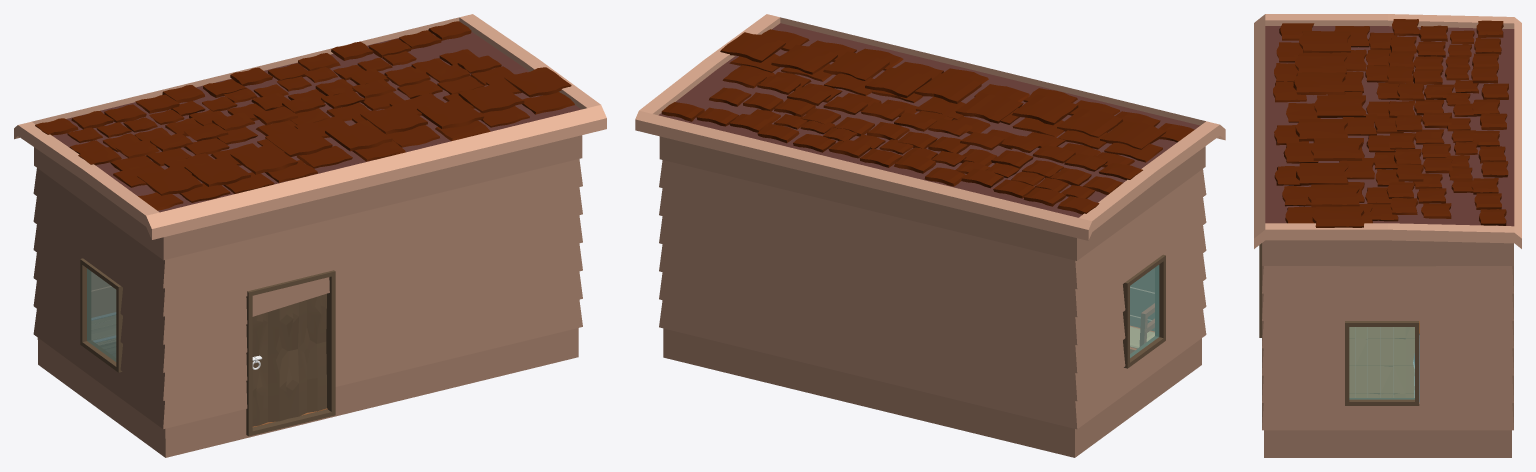
File: Kamara.fbx
The picture shows the model from 3 angles, left to right: view 1: azimuth 30°, elevation 25°; view 2: azimuth 150°, elevation 25°; view 3: azimuth 270°, elevation 25°; orthographic projection. The views are drawn at different scales.
Parts seen in each view (by area): view 1: Cube.017, Cube.019, Cube.018, Cube.021, Plane, Cube.020, Box; view 2: Cube.017, Cube.019, Cube.018, Plane, Cube.048; view 3: Cube.017, Cube.019, Cube.018, Plane, Cube.049, Cube.020.
Part boxes in pixels (<box>): Cube.017: <box>33,135,582,457</box>; Cube.019: <box>35,21,574,210</box>; Cube.018: <box>14,14,606,239</box>; Cube.021: <box>252,293,326,426</box>; Plane: <box>80,258,122,372</box>; Cube.020: <box>246,270,335,436</box>; Box: <box>91,312,116,357</box>; Cube.017: <box>659,136,1206,457</box>; Cube.019: <box>661,29,1194,214</box>; Cube.018: <box>635,14,1225,240</box>; Plane: <box>1123,254,1165,368</box>; Cube.048: <box>1130,303,1154,353</box>; Cube.017: <box>1262,240,1513,457</box>; Cube.019: <box>1273,19,1508,227</box>; Cube.018: <box>1254,14,1521,248</box>; Plane: <box>1345,321,1419,405</box>; Cube.049: <box>1349,321,1419,397</box>; Cube.020: <box>1259,243,1261,337</box>.
Size of the model in its own units: 442 by 231 by 232.
